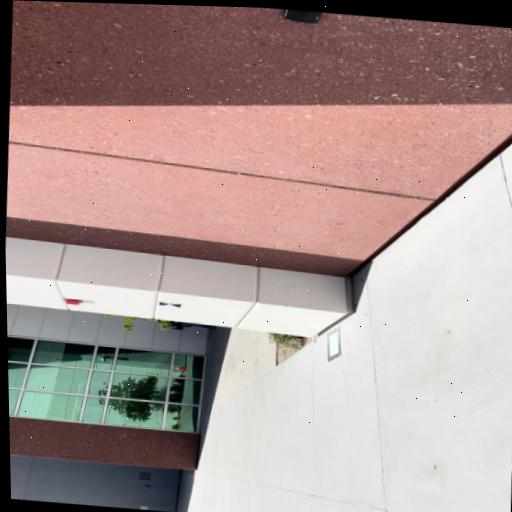target2: (158, 302, 181, 308)
